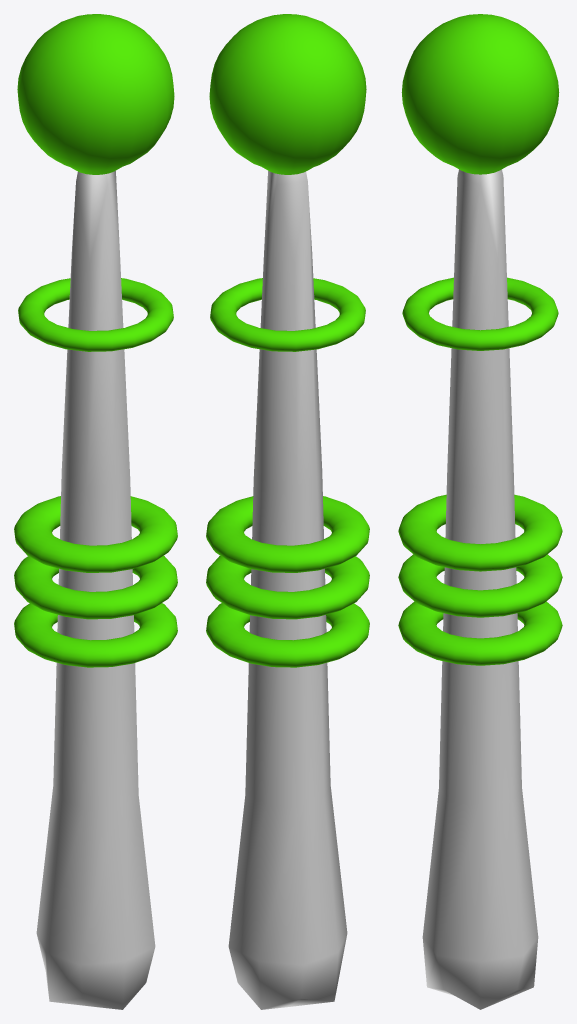
Rendered from AlienProbe.fbx.
3 renders of one model, left to right at view 1: azimuth 30°, elevation 25°; view 2: azimuth 150°, elevation 25°; view 3: azimuth 270°, elevation 25°, orthographic.
Visible parts, largest first — view 1: pCube7; view 2: pCube7; view 3: pCube7.
Boxes of the visible parts, bbox=[...] form: pCube7: bbox=[14, 14, 177, 1009]; pCube7: bbox=[206, 14, 369, 1009]; pCube7: bbox=[398, 14, 562, 1009].
Size of the model in its own units: 1.97 by 13 by 1.97.
